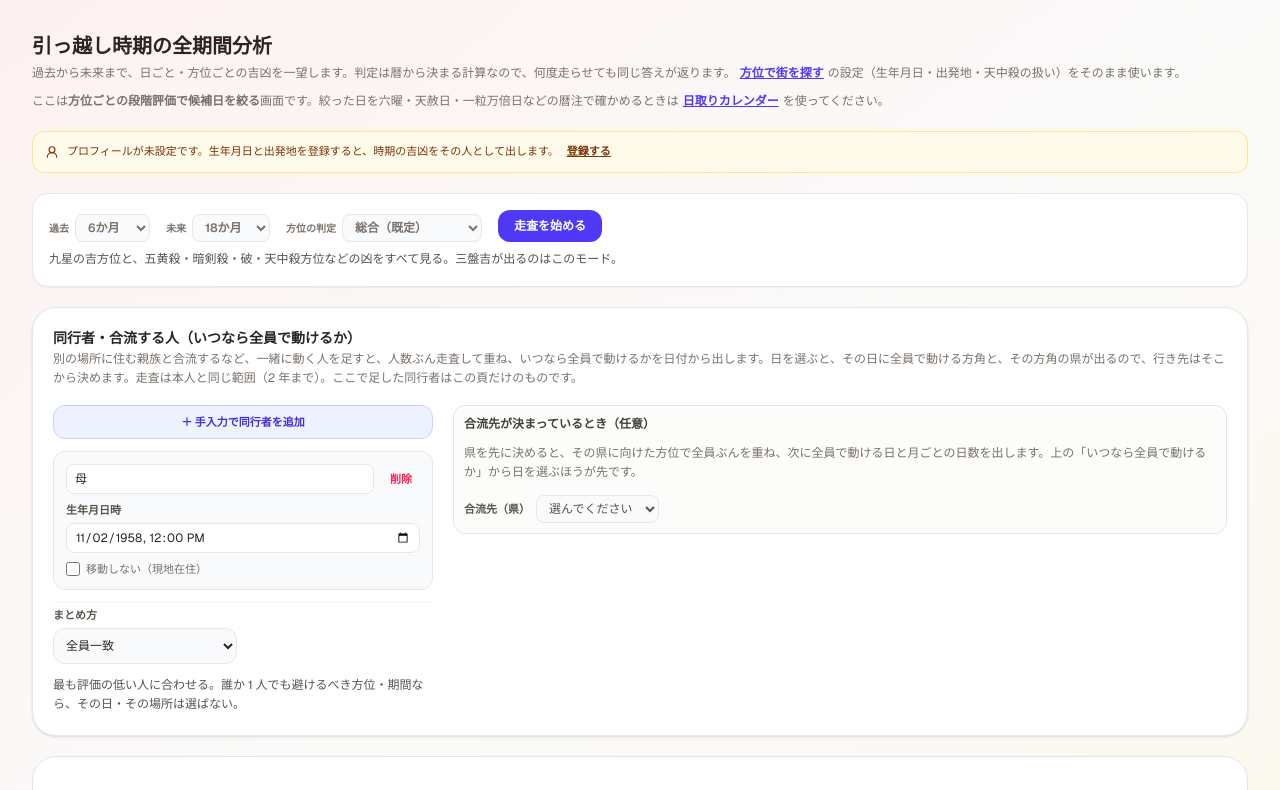
it: 時期ツールの同行者 › 合流先を選んでいなくても、いつなら全員で動けるかが日付から出る
The image size is (1280, 790).
Step 1. Click the button "走査を始める" → coordinates (550, 226), box [498, 210, 602, 242]
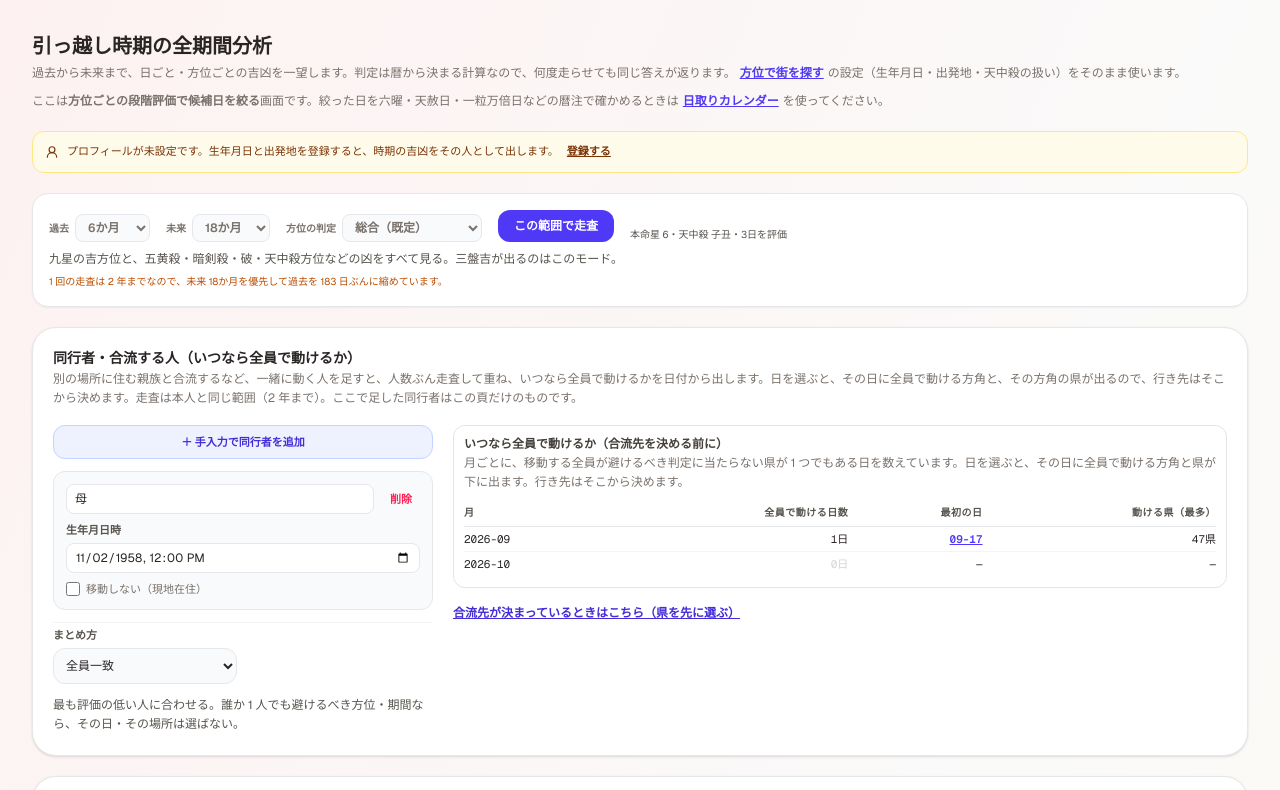
Now the element that starts with "いつなら全員で動けるか（合流先を決める前に）" is shown, box [453, 425, 1227, 588]
